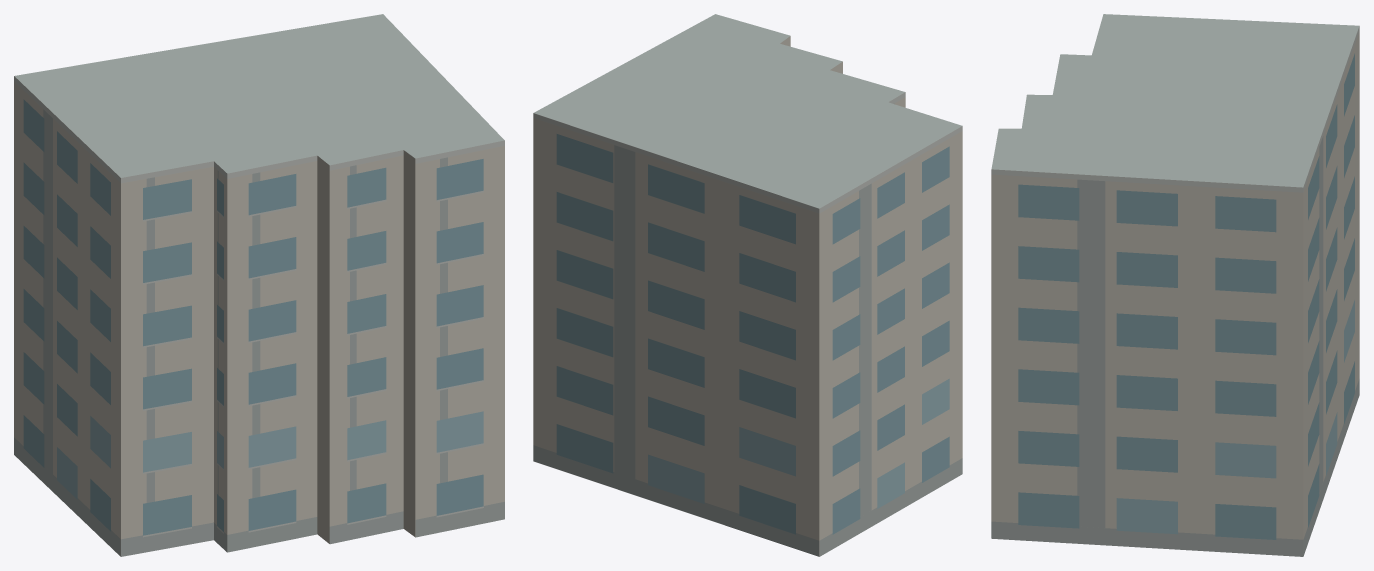
File: survey-upis-32805889.glb
The picture shows the model from 3 angles, left to right: view 1: azimuth 30°, elevation 25°; view 2: azimuth 150°, elevation 25°; view 3: azimuth 270°, elevation 25°; orthographic projection. The views are drawn at different scales.
Parts seen in each view (by area): view 1: survey-upis-32805889.tmp; view 2: survey-upis-32805889.tmp; view 3: survey-upis-32805889.tmp.
Part boxes in pixels (x1=…): survey-upis-32805889.tmp: x1=14, y1=14, x2=504, y2=556; survey-upis-32805889.tmp: x1=533, y1=14, x2=962, y2=556; survey-upis-32805889.tmp: x1=991, y1=14, x2=1359, y2=556.
Bounding box in the file's own units: 17.44 × 17.3 × 15.63.
